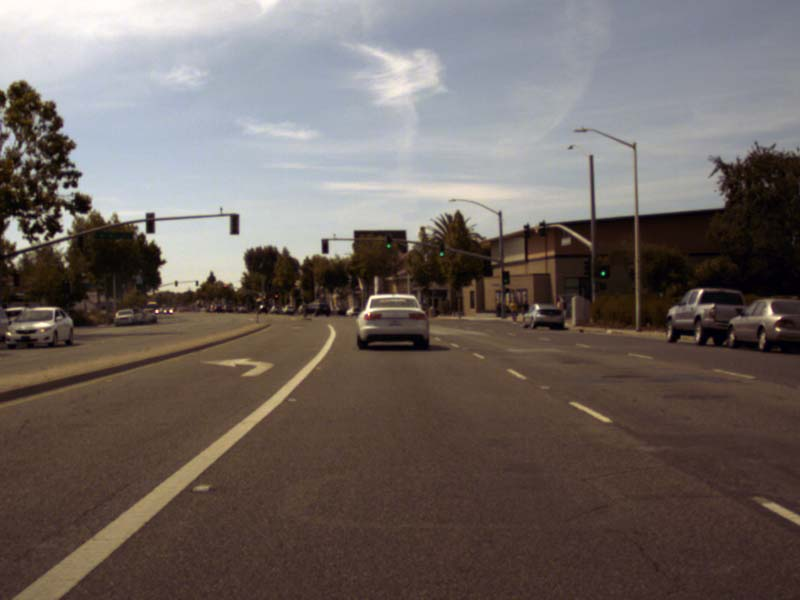Green: (598, 266, 608, 277), (439, 240, 444, 256), (502, 271, 508, 283), (386, 235, 391, 248)
Red: (321, 238, 328, 252), (273, 292, 278, 299), (223, 285, 226, 289)
